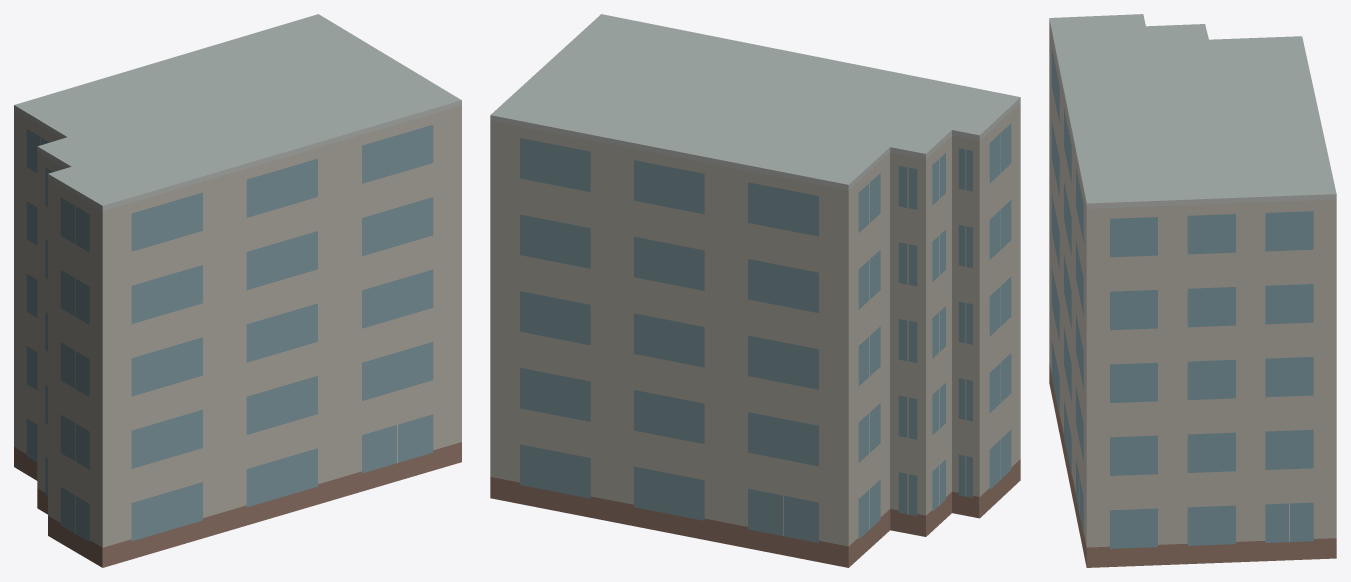
File: survey-upis-32563878.glb
The picture shows the model from 3 angles, left to right: view 1: azimuth 30°, elevation 25°; view 2: azimuth 150°, elevation 25°; view 3: azimuth 270°, elevation 25°; orthographic projection. The views are drawn at different scales.
Visible parts, largest first — view 1: survey-upis-32563878.tmp; view 2: survey-upis-32563878.tmp; view 3: survey-upis-32563878.tmp.
Boxes of the visible parts, x1=… form: survey-upis-32563878.tmp: x1=14, y1=14, x2=461, y2=567; survey-upis-32563878.tmp: x1=490, y1=14, x2=1020, y2=567; survey-upis-32563878.tmp: x1=1049, y1=14, x2=1336, y2=567.
Bounding box in the file's own units: 18.75 × 16.8 × 12.02.
